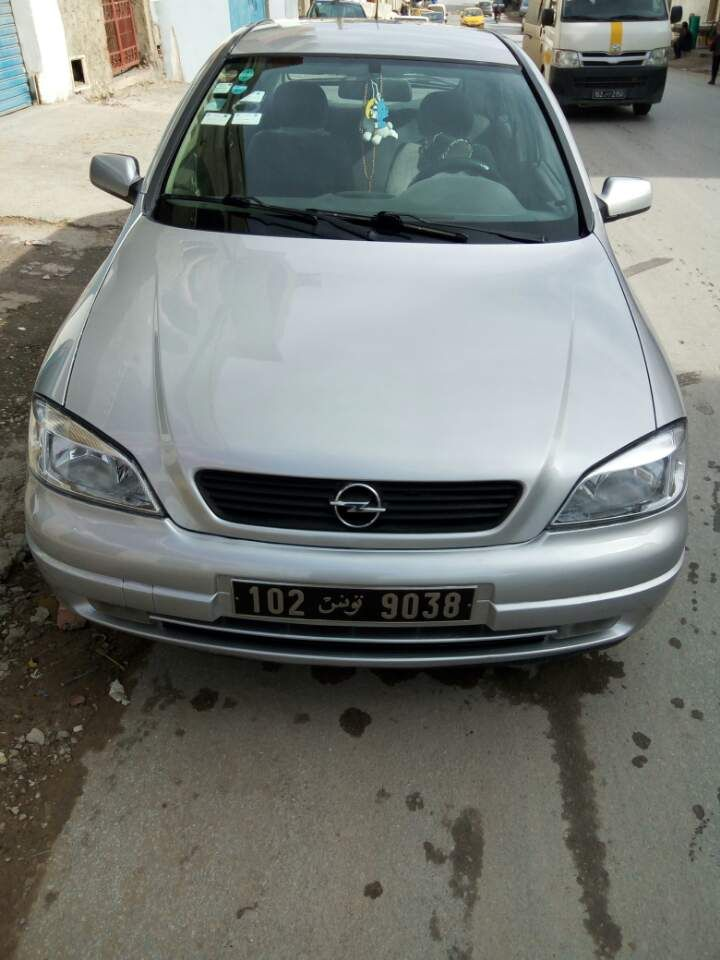LP: (229, 576, 479, 626)
